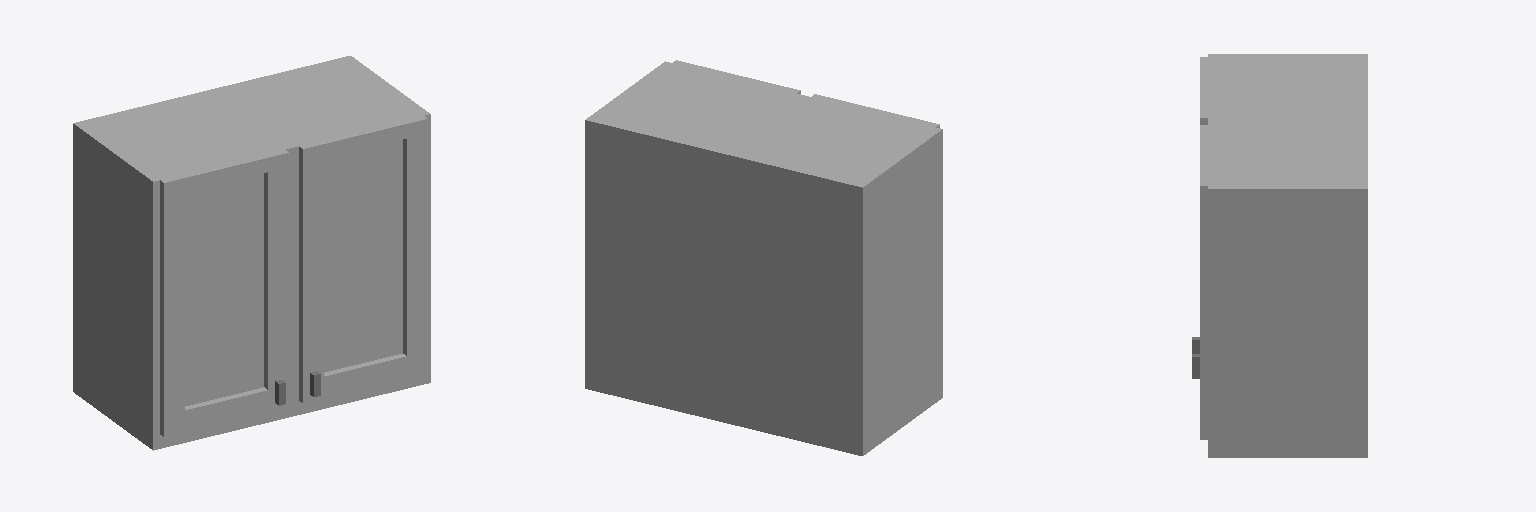
The picture shows the model from 3 angles: view 1: azimuth 30°, elevation 25°; view 2: azimuth 150°, elevation 25°; view 3: azimuth 270°, elevation 25°; orthographic projection.
Parts seen in each view (by area): view 1: closet2; view 2: closet2; view 3: closet2.
Part boxes in pixels (bbox=[...]): closet2: bbox=[73, 56, 430, 450]; closet2: bbox=[585, 60, 942, 455]; closet2: bbox=[1192, 54, 1367, 457].
Bounding box in the file's own units: 4 × 3.7 × 2.2.
Materials: 1 (1 with a texture image).